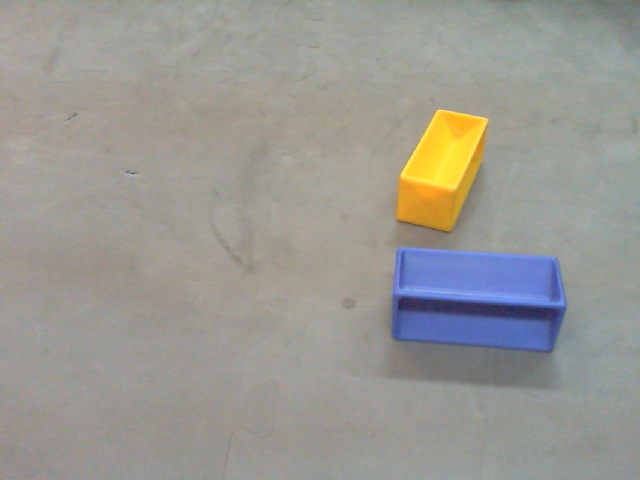BlueSample: (392, 246, 567, 354)
YellowSample: (394, 105, 487, 234)
